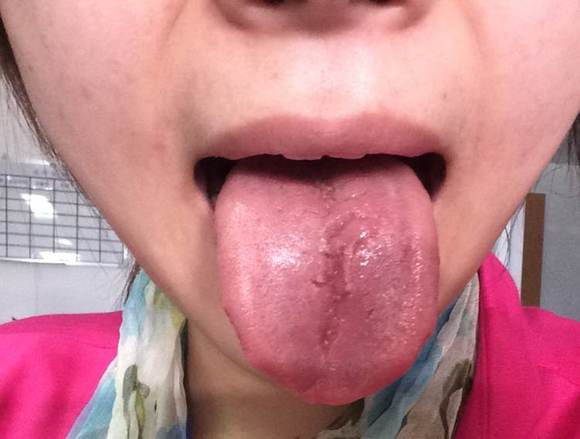chihenshe: (224, 308, 298, 392)
hongshe: (215, 166, 439, 405)
liewenshe: (310, 181, 374, 363)
